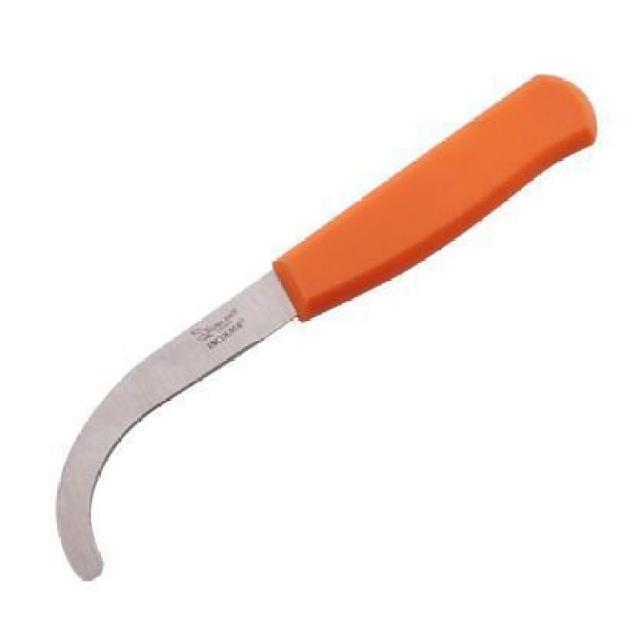-: (19, 206, 305, 631)
